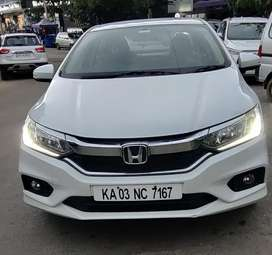KA03NC7167: (93, 183, 182, 200)
